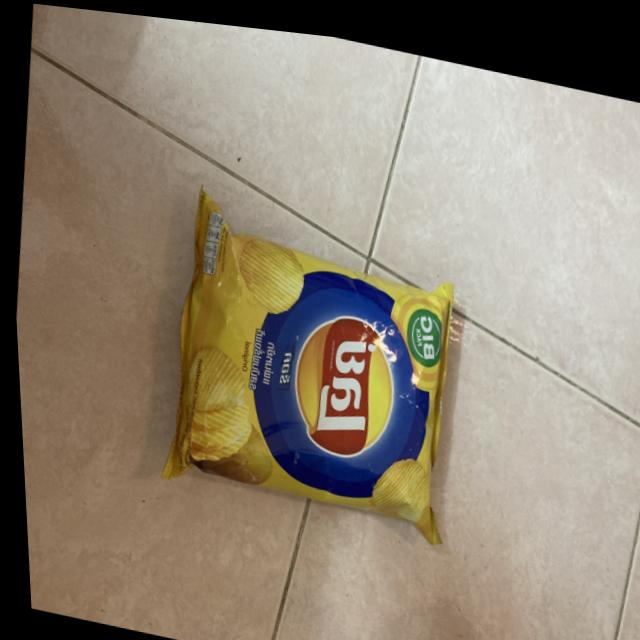LayYellow: (141, 165, 476, 553)
